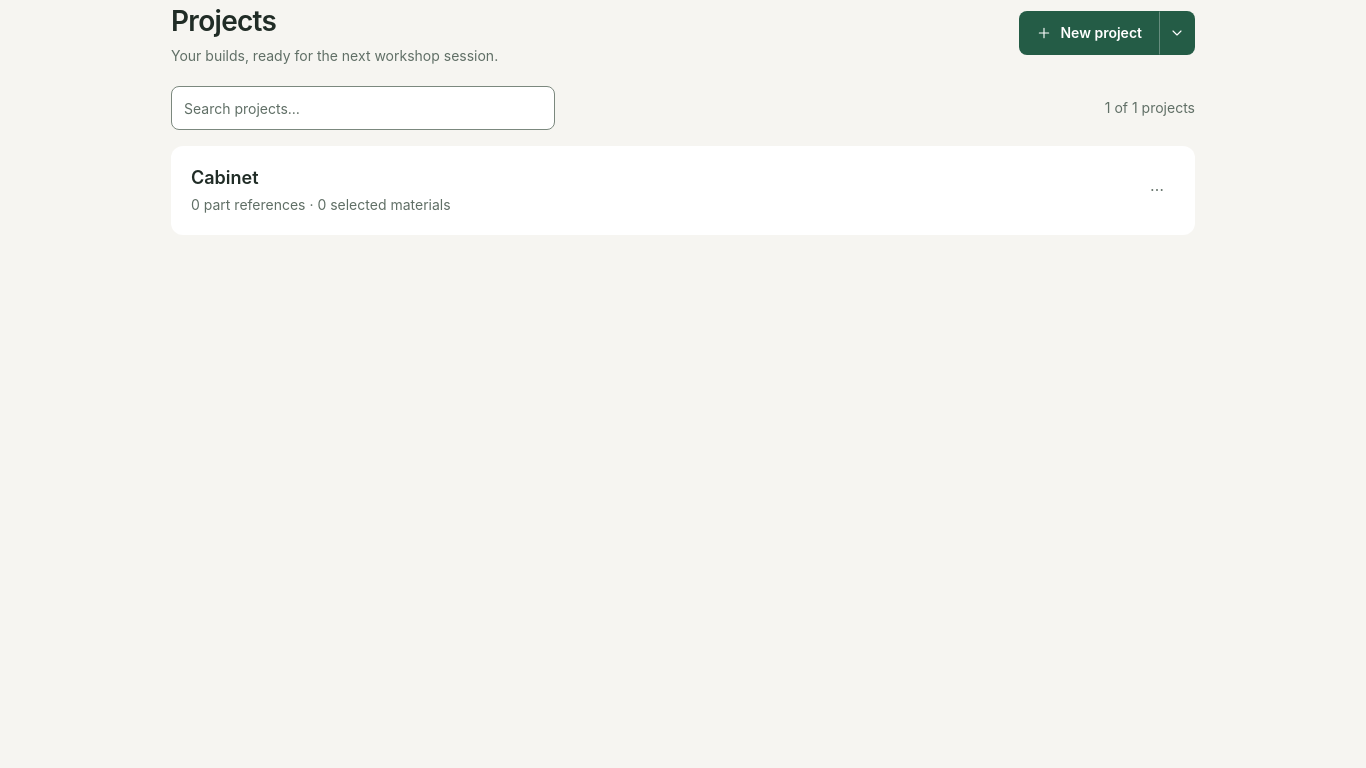
Test case: Project manager › keeps Edit project independent from row navigation
The width and height of the screenshot is (1366, 768).
Click the button named "Actions for Cabinet" at (1157, 190), box top-left (1139, 172), bottom-right (1175, 208)
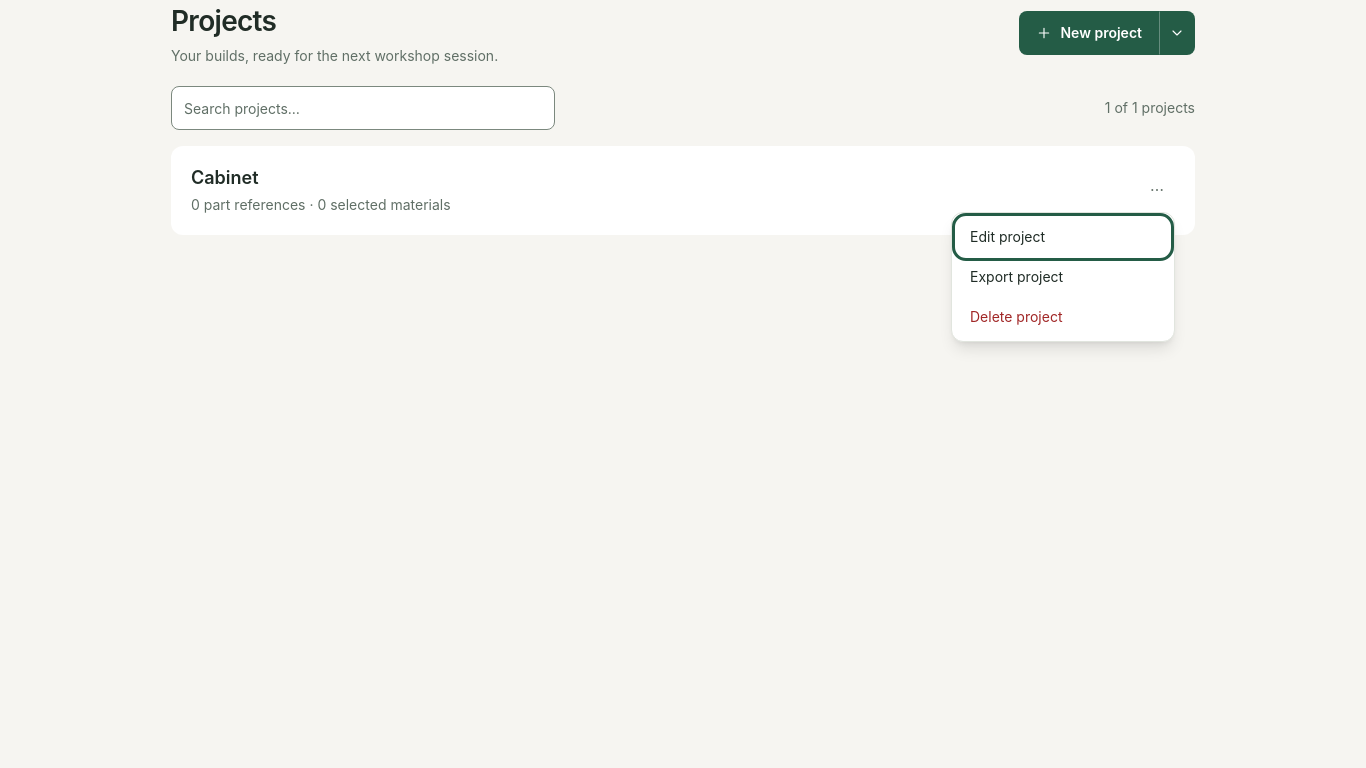
Click the menu item "Edit project" at (1063, 237), box top-left (958, 219), bottom-right (1168, 255)
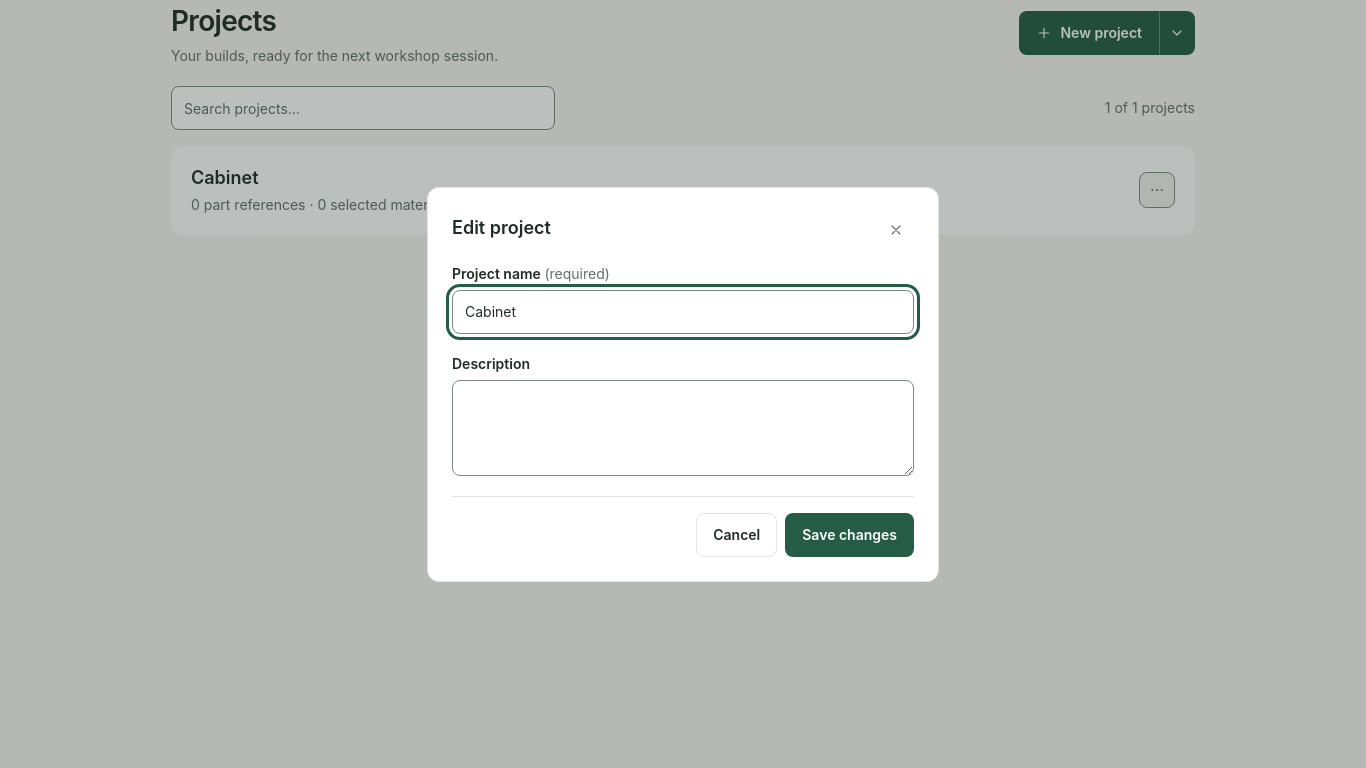
Check: the dialog is shown, box top-left (427, 186), bottom-right (939, 582)
